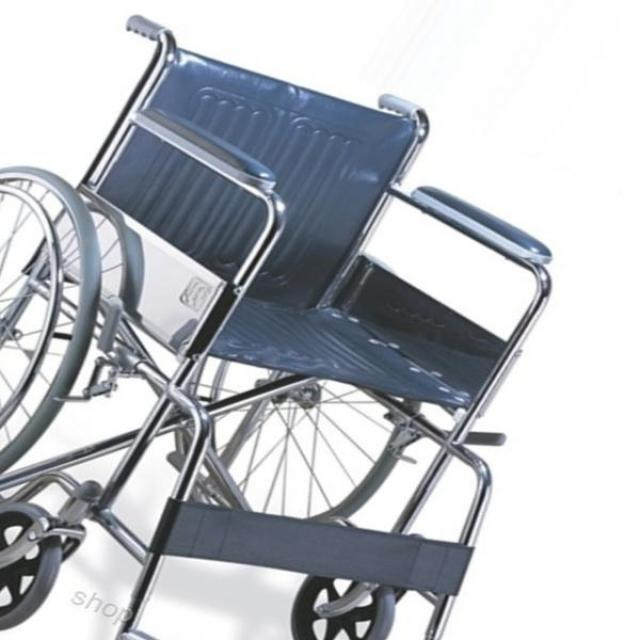wheelchair: (0, 8, 555, 640)
